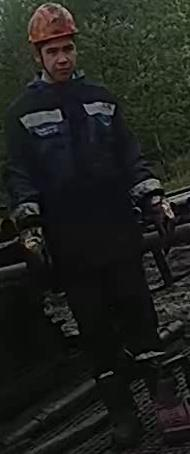gloves: (132, 180, 178, 255), (10, 201, 52, 267)
helmet: (26, 2, 80, 44)
vest: (5, 75, 145, 261)
